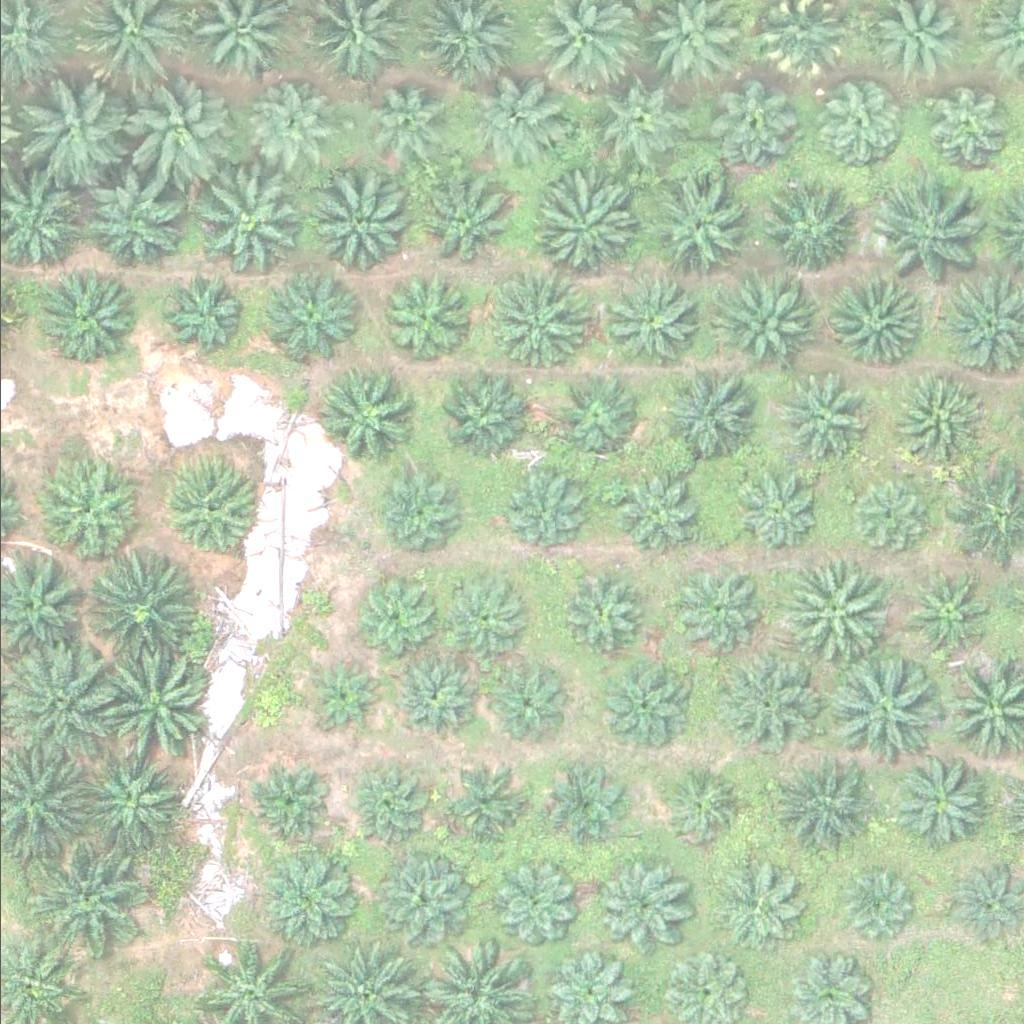Kelapa_Sawit: (20, 70, 134, 183), (758, 743, 871, 856), (821, 652, 934, 765), (79, 549, 192, 662), (865, 178, 978, 291), (190, 164, 303, 277), (115, 77, 228, 190), (304, 170, 418, 282), (33, 842, 146, 954), (777, 552, 890, 664), (96, 649, 209, 761), (40, 270, 141, 370), (362, 848, 463, 948), (883, 752, 984, 852), (716, 649, 817, 749), (81, 749, 182, 849), (887, 366, 988, 466), (658, 368, 759, 468), (426, 364, 527, 464), (310, 365, 411, 465), (482, 274, 583, 374), (754, 178, 855, 278), (642, 174, 743, 274), (526, 174, 627, 274), (40, 461, 140, 561), (75, 172, 175, 272), (257, 847, 357, 947), (155, 459, 255, 559), (821, 273, 921, 373), (716, 274, 816, 374), (255, 267, 355, 367), (411, 176, 511, 276), (467, 77, 567, 177), (589, 860, 677, 948), (488, 860, 576, 948), (843, 474, 931, 562), (736, 463, 824, 551), (608, 467, 696, 555), (506, 460, 594, 548), (558, 562, 646, 650), (603, 660, 691, 748), (240, 759, 328, 847), (657, 761, 745, 849), (775, 376, 863, 464), (373, 276, 461, 364), (160, 268, 248, 356), (900, 568, 988, 656), (371, 467, 459, 554), (354, 577, 442, 664), (439, 573, 527, 660), (675, 564, 763, 651), (478, 658, 566, 745), (394, 659, 482, 746), (350, 757, 438, 844), (447, 765, 535, 852), (544, 757, 632, 844), (712, 863, 800, 950), (553, 372, 641, 459), (609, 281, 697, 368), (915, 84, 1003, 171), (806, 81, 894, 168), (707, 84, 795, 171), (590, 81, 678, 168), (346, 81, 434, 168), (241, 86, 329, 173), (834, 867, 910, 942), (309, 660, 385, 735)
